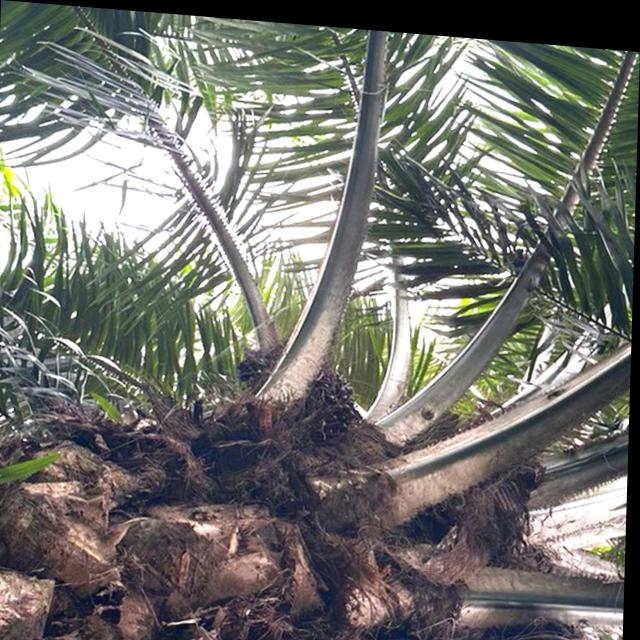almost: (239, 335, 370, 431)
